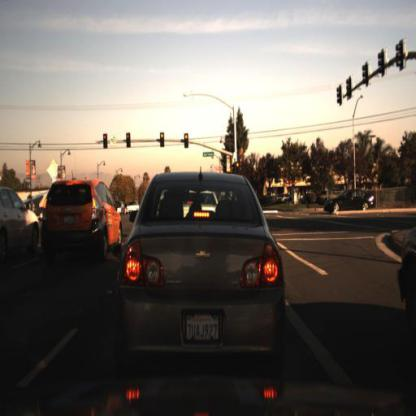car: (120, 173, 286, 370), (40, 175, 123, 271), (385, 205, 416, 329), (1, 193, 39, 263), (321, 186, 379, 217), (323, 189, 379, 215), (125, 198, 141, 215)
trafficLight-Red: (184, 131, 193, 151), (234, 157, 242, 172), (160, 132, 166, 150), (103, 133, 111, 145), (126, 131, 134, 143)
trafficLight-RedLeft: (125, 129, 133, 150), (101, 132, 109, 151)
